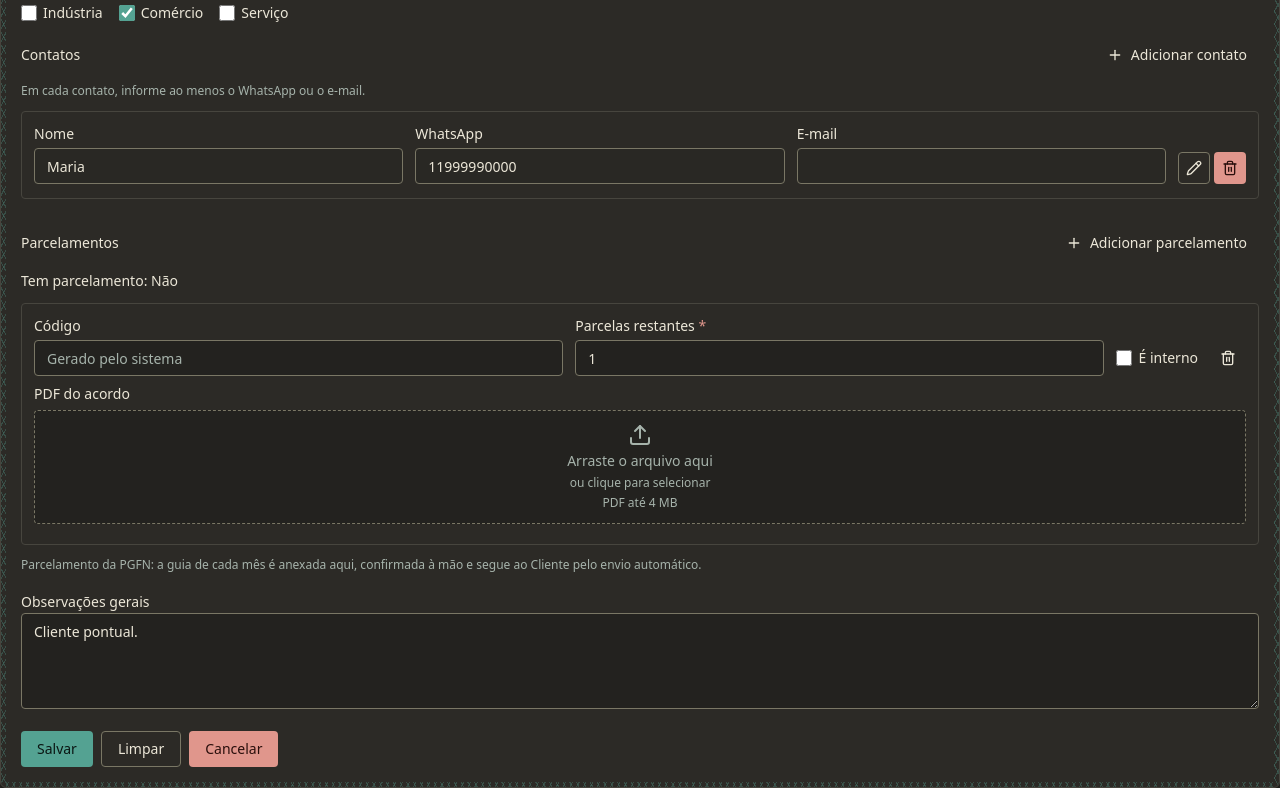
EditarCadastroOperacionalContainer › salvar com DAS já enviado mantém 'enviado' e a data no que vai ao servidor
This screenshot has width=1280, height=788.
(page scrolled)
Click the button "Salvar": click(57, 749) [21, 731, 93, 767]
(page scrolled)
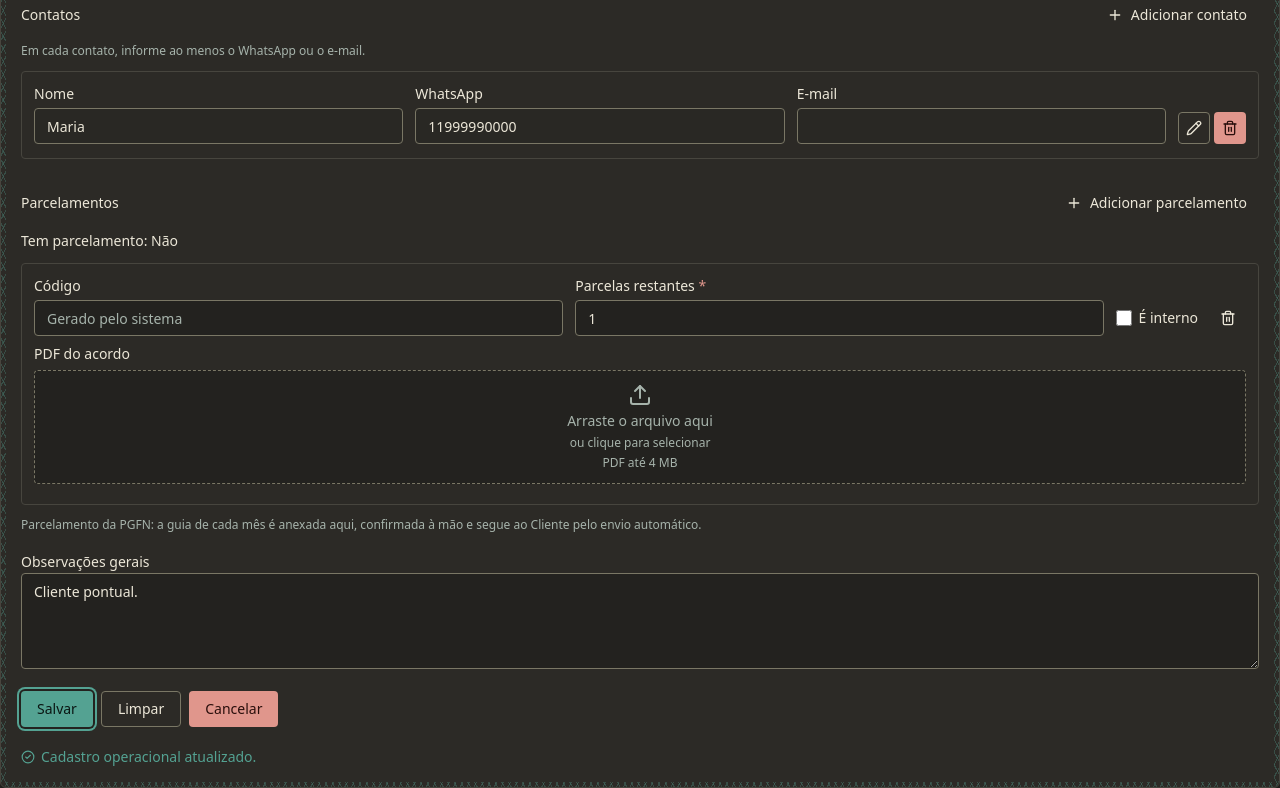
Now the text "Cadastro operacional atualizado." is shown, box [41, 747, 256, 767]
